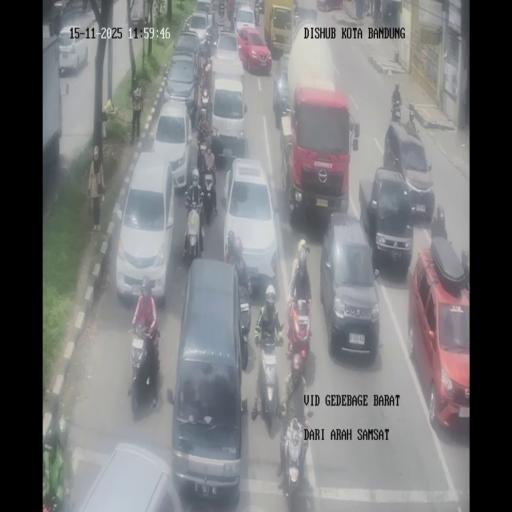3: (281, 21, 356, 230), (42, 38, 62, 206), (263, 0, 295, 59)
car: (170, 258, 246, 503), (409, 243, 469, 432), (115, 153, 177, 303), (320, 215, 380, 361), (68, 442, 184, 511), (222, 157, 278, 292), (361, 168, 415, 271), (150, 101, 192, 192), (209, 78, 248, 165), (164, 53, 200, 121), (210, 30, 244, 82), (58, 28, 88, 76), (272, 54, 292, 126), (186, 10, 210, 46), (234, 4, 256, 38), (52, 0, 71, 20)
truck: (277, 413, 313, 507), (128, 319, 161, 416), (252, 331, 284, 425), (286, 291, 313, 366), (236, 279, 252, 368), (182, 200, 204, 264), (200, 168, 218, 226), (432, 204, 448, 239), (199, 90, 212, 127), (197, 42, 209, 82), (224, 234, 240, 264), (402, 113, 420, 139), (198, 141, 210, 179), (207, 8, 219, 44), (222, 7, 234, 32), (390, 98, 402, 122), (254, 1, 261, 24), (293, 0, 299, 25), (218, 0, 225, 16), (232, 4, 238, 22), (211, 0, 218, 15)
